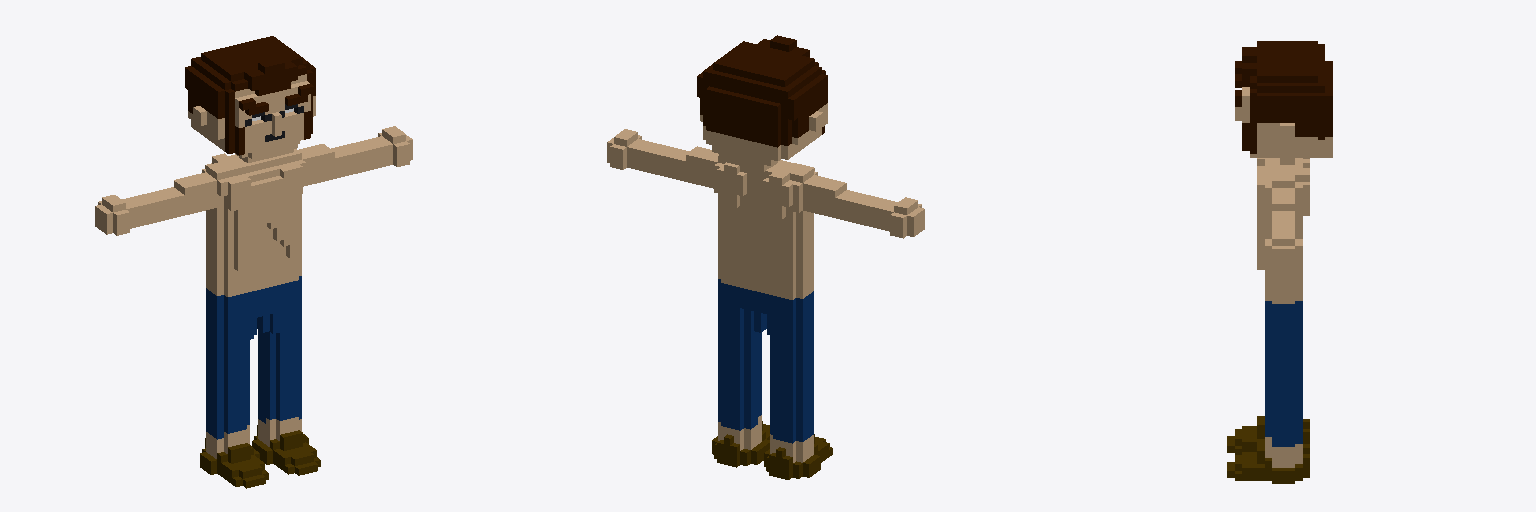
3 views of the same model, side by side, from view 1: azimuth 30°, elevation 25°; view 2: azimuth 150°, elevation 25°; view 3: azimuth 270°, elevation 25° (orthographic).
Visible parts, largest first — view 1: object 1; view 2: object 1; view 3: object 1.
Boxes of the visible parts, x1=… form: object 1: x1=95, y1=36, x2=412, y2=488; object 1: x1=607, y1=35, x2=924, y2=479; object 1: x1=1227, y1=41, x2=1332, y2=483.
Bounding box in the file's own units: 4.7 × 6 × 1.4.
Materials: 1 (1 with a texture image).